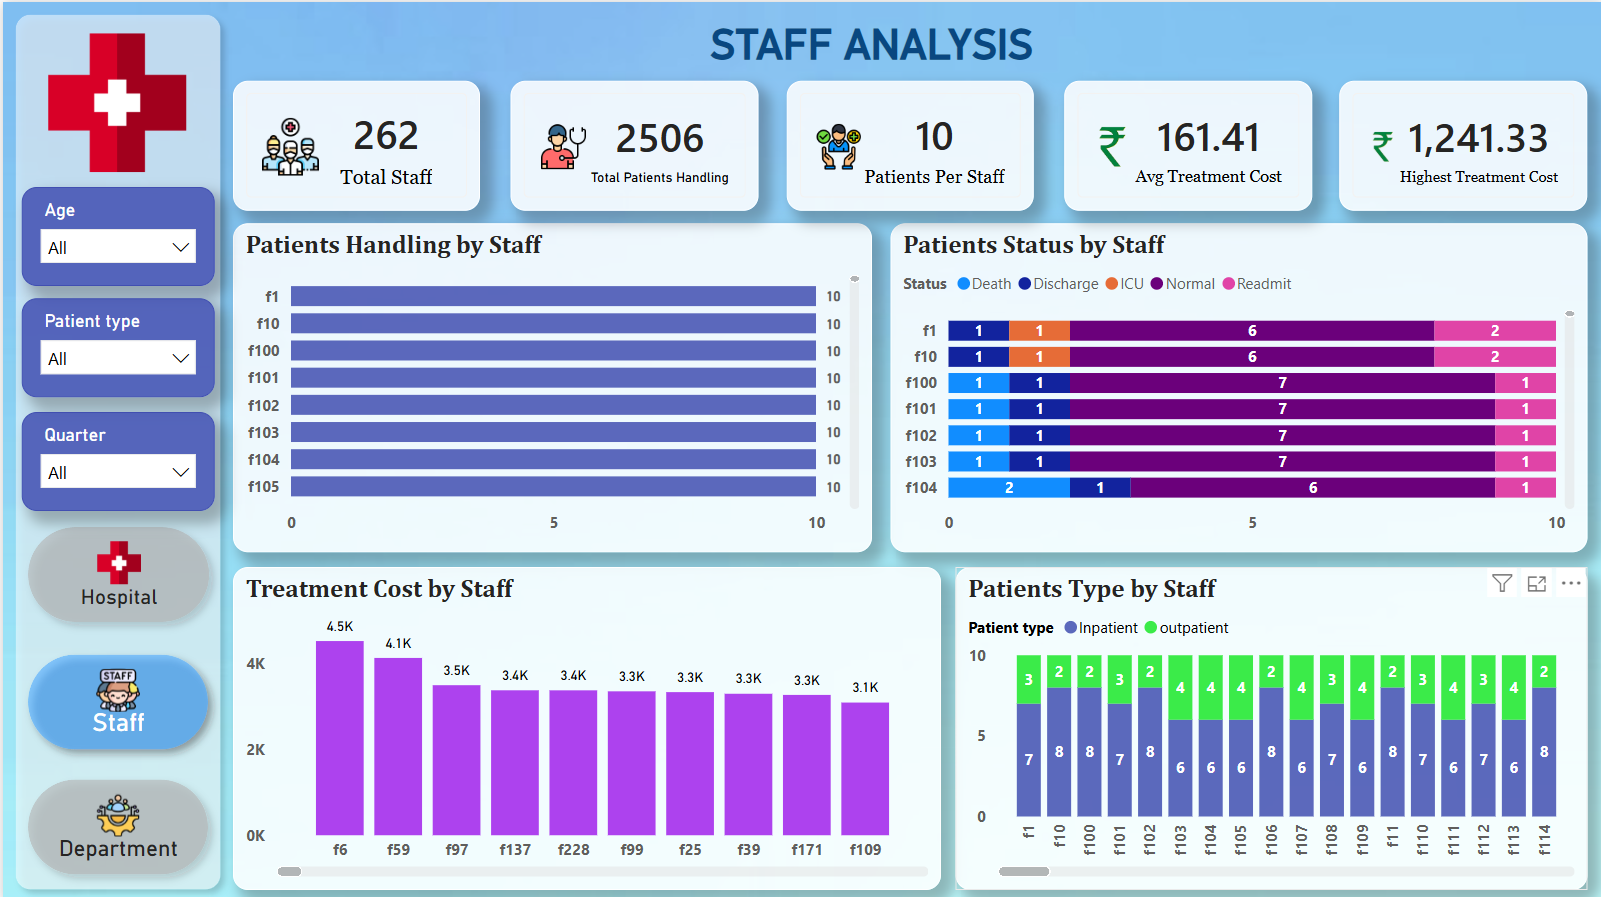

What the dashboard file says about the page in this screenshot:
{"tool":"powerbi","page":{"name":"Staff Analysis","canvas":[1280,720],"ordinal":1},"visuals":[{"type":"shape","box":[0,0,183.7,719.8],"z":0},{"type":"cardVisual","fields":{"Data":["Measure.Total Staff"]},"box":[184,63.4,197.5,103.9],"z":1000},{"type":"barChart","title":"Patients Handling by Staff","fields":{"Category":["Staff_Detail.Staff Name"],"Y":["Measure.Total Patients Handling"]},"box":[184,176.7,511.3,262.9],"z":2000},{"type":"cardVisual","fields":{"Data":["Measure.Highest Treatment Cost"]},"box":[1069.4,63.4,197.5,103.9],"z":3000},{"type":"barChart","title":"Patients Status by Staff","fields":{"Category":["Staff_Detail.Staff Name"],"Series":["Detail data dataset.Status"],"Y":["Measure.Total Patients"]},"box":[709.8,176.7,557,262.9],"z":4000},{"type":"cardVisual","fields":{"Data":["Measure.Average Treatment Cost"]},"box":[849.1,63.4,197.5,103.9],"z":5000},{"type":"columnChart","title":"Treatment Cost by Staff","fields":{"Y":["Measure.Total Treatment Cost"],"Category":["Staff_Detail.Staff Name"]},"box":[184,452.1,566.4,257.7],"z":6000},{"type":"cardVisual","fields":{"Data":["Measure.Patients Per Staff"]},"box":[626.7,63.4,197.5,103.9],"z":7000},{"type":"columnChart","title":"Patients Type by Staff","fields":{"Category":["Staff_Detail.Staff Name"],"Series":["Detail data dataset.Patient type"],"Y":["Measure.Total Patients"]},"box":[761.8,452.1,505.1,257.7],"z":8000},{"type":"cardVisual","fields":{"Data":["Measure.Total Patients Handling"]},"box":[406.4,63.4,197.5,103.9],"z":9000},{"type":"textbox","box":[540.4,0,308.7,68.6],"z":10000},{"type":"slicer","fields":{"Values":["Detail data dataset.Age"]},"box":[15.1,147.7,153.5,79.1],"z":11000},{"type":"slicer","fields":{"Values":["Detail data dataset.Patient type"]},"box":[15.1,237.2,153.5,79.1],"z":12000},{"type":"actionButton","box":[9.3,611.8,166.3,97.7],"z":12000,"group":"g1"},{"type":"group","id":"g1","title":"Group 1","box":[9.3,409.5,167.4,300],"z":13000},{"type":"actionButton","box":[9.3,409.5,167.4,97.7],"z":13000,"group":"g1"},{"type":"image","box":[33.4,25,115.5,111.3],"z":14000},{"type":"actionButton","box":[9.3,511.8,166.3,97.7],"z":14000,"group":"g1"},{"type":"slicer","fields":{"Values":["Dim_date.Quarter","Dim_date.Month"]},"box":[15.1,327.9,153.5,79.1],"z":14001}]}

Visuals, with their boxes in screenshot pixels (x1, y1, x2, y2), scaled from the page's 1280x720 canvas onto the 1601x897 screenshot:
shape: rect(0, 0, 230, 896)
cardVisual - Measure.Total Staff: rect(230, 79, 477, 208)
"Patients Handling by Staff" barChart: rect(230, 220, 870, 548)
cardVisual - Measure.Highest Treatment Cost: rect(1338, 79, 1585, 208)
"Patients Status by Staff" barChart: rect(888, 220, 1584, 548)
cardVisual - Measure.Average Treatment Cost: rect(1062, 79, 1309, 208)
"Treatment Cost by Staff" columnChart: rect(230, 563, 939, 884)
cardVisual - Measure.Patients Per Staff: rect(784, 79, 1031, 208)
"Patients Type by Staff" columnChart: rect(953, 563, 1585, 884)
cardVisual - Measure.Total Patients Handling: rect(508, 79, 755, 208)
textbox: rect(676, 0, 1062, 85)
slicer - Detail data dataset.Age: rect(19, 184, 211, 283)
slicer - Detail data dataset.Patient type: rect(19, 296, 211, 394)
actionButton: rect(12, 762, 220, 884)
"Group 1" group: rect(12, 510, 221, 884)
actionButton: rect(12, 510, 221, 632)
image: rect(42, 31, 186, 170)
actionButton: rect(12, 638, 220, 759)
slicer - Dim_date.Quarter x Dim_date.Month: rect(19, 409, 211, 507)
